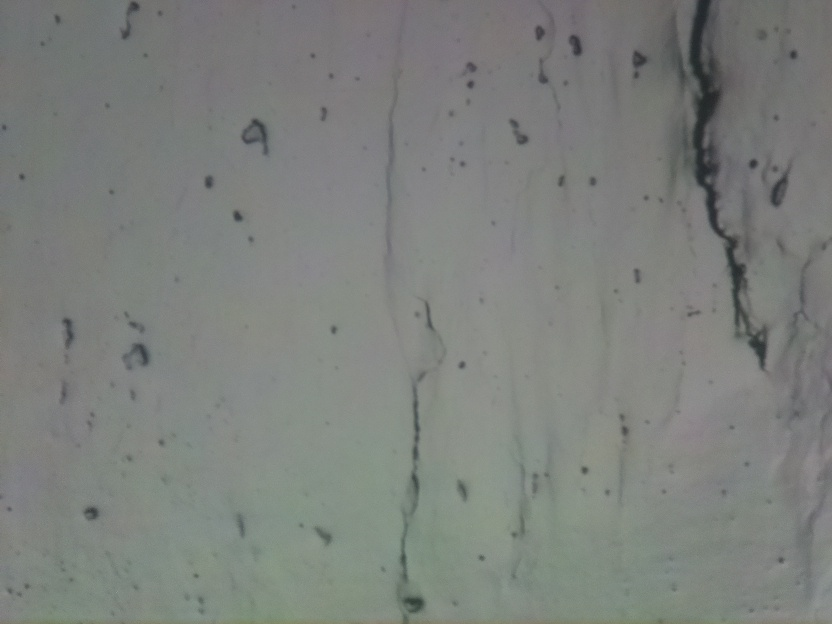crack: (686, 0, 770, 367), (403, 296, 445, 579)
